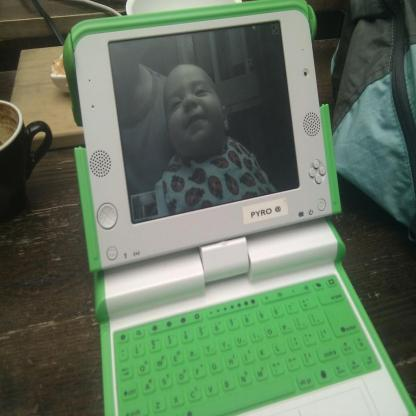board: (65, 7, 416, 416)
